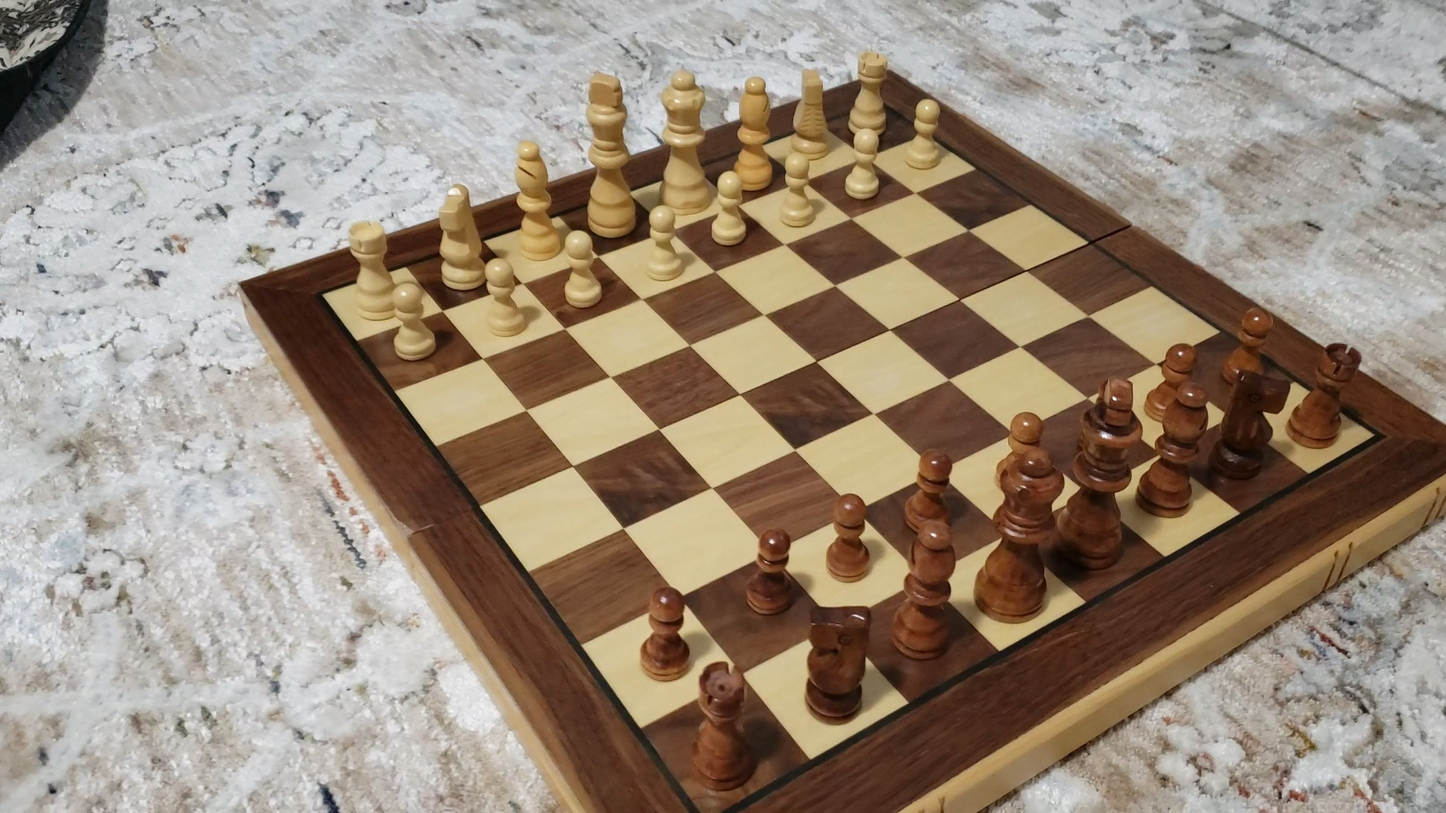black-bishop: (1138, 382, 1213, 518), (891, 518, 959, 662)
black-king: (1054, 374, 1146, 569)
black-knight: (804, 605, 872, 723), (1211, 362, 1277, 480)
black-pawn: (635, 583, 692, 685), (1219, 304, 1279, 392), (991, 408, 1048, 496), (904, 445, 957, 537), (743, 524, 795, 617), (825, 490, 873, 584), (1151, 339, 1202, 417)
black-queen: (972, 443, 1068, 624)
black-rook: (689, 660, 756, 793), (1288, 340, 1364, 449)
white-bishop: (512, 136, 560, 264), (734, 70, 775, 191)
white-king: (581, 67, 635, 243)
white-knight: (435, 180, 486, 294), (793, 64, 829, 163)
white-pawn: (382, 279, 444, 367), (554, 224, 609, 318), (476, 255, 533, 343), (635, 201, 690, 289), (770, 147, 824, 234), (703, 166, 753, 253), (837, 122, 890, 204), (899, 95, 947, 174)
white-queen: (659, 63, 712, 218)
white-rook: (341, 216, 399, 324), (850, 46, 891, 141)
